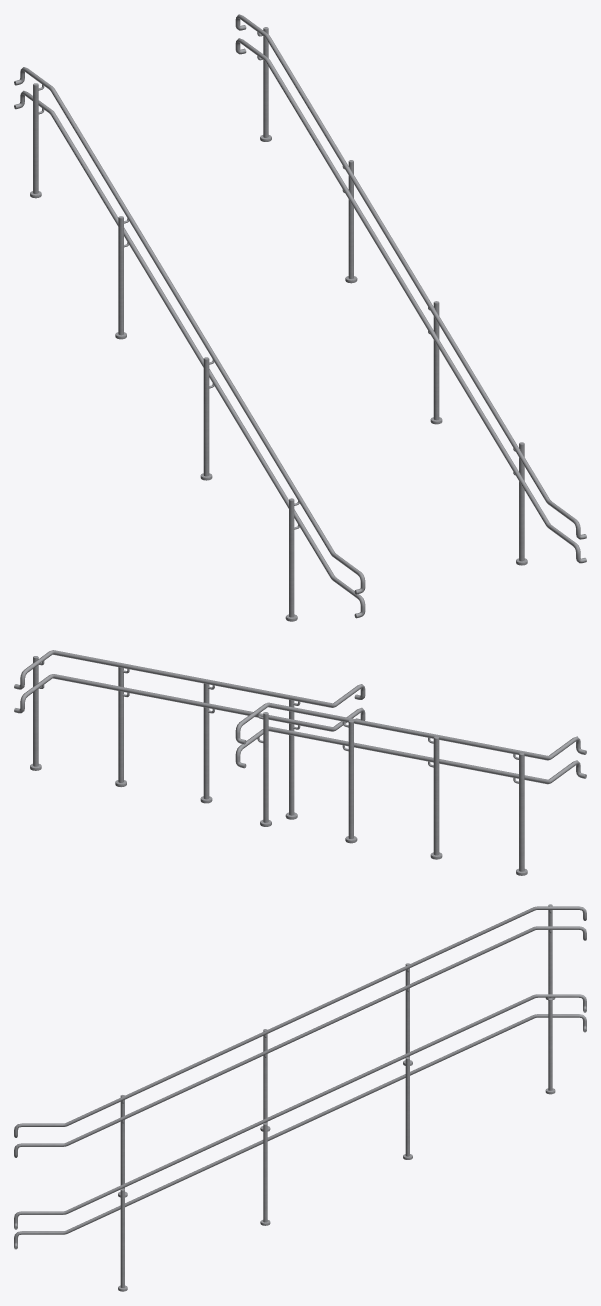
Rendered from gteki_ik_stair_n13_r168_t330_w1845_rails_post.glb.
3 renders of one model, top to bottom at view 1: azimuth 30°, elevation 25°; view 2: azimuth 150°, elevation 25°; view 3: azimuth 270°, elevation 25°, orthographic. The views are drawn at different scales.
Parts seen in each view (by area): view 1: VIS_handrails, VIS_rail_supports; view 2: VIS_handrails, VIS_rail_supports; view 3: VIS_handrails, VIS_rail_supports.
Part boxes in pixels (bbox=[...]): VIS_handrails: bbox=[14, 14, 586, 618]; VIS_rail_supports: bbox=[30, 27, 527, 621]; VIS_handrails: bbox=[14, 650, 586, 784]; VIS_rail_supports: bbox=[30, 656, 527, 875]; VIS_handrails: bbox=[14, 906, 586, 1249]; VIS_rail_supports: bbox=[118, 904, 555, 1291].
Size of the model in its own units: 2.12 by 2.94 by 5.23.
1 material, 1 textured.
